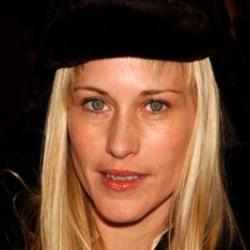face: (32, 31, 243, 247)
